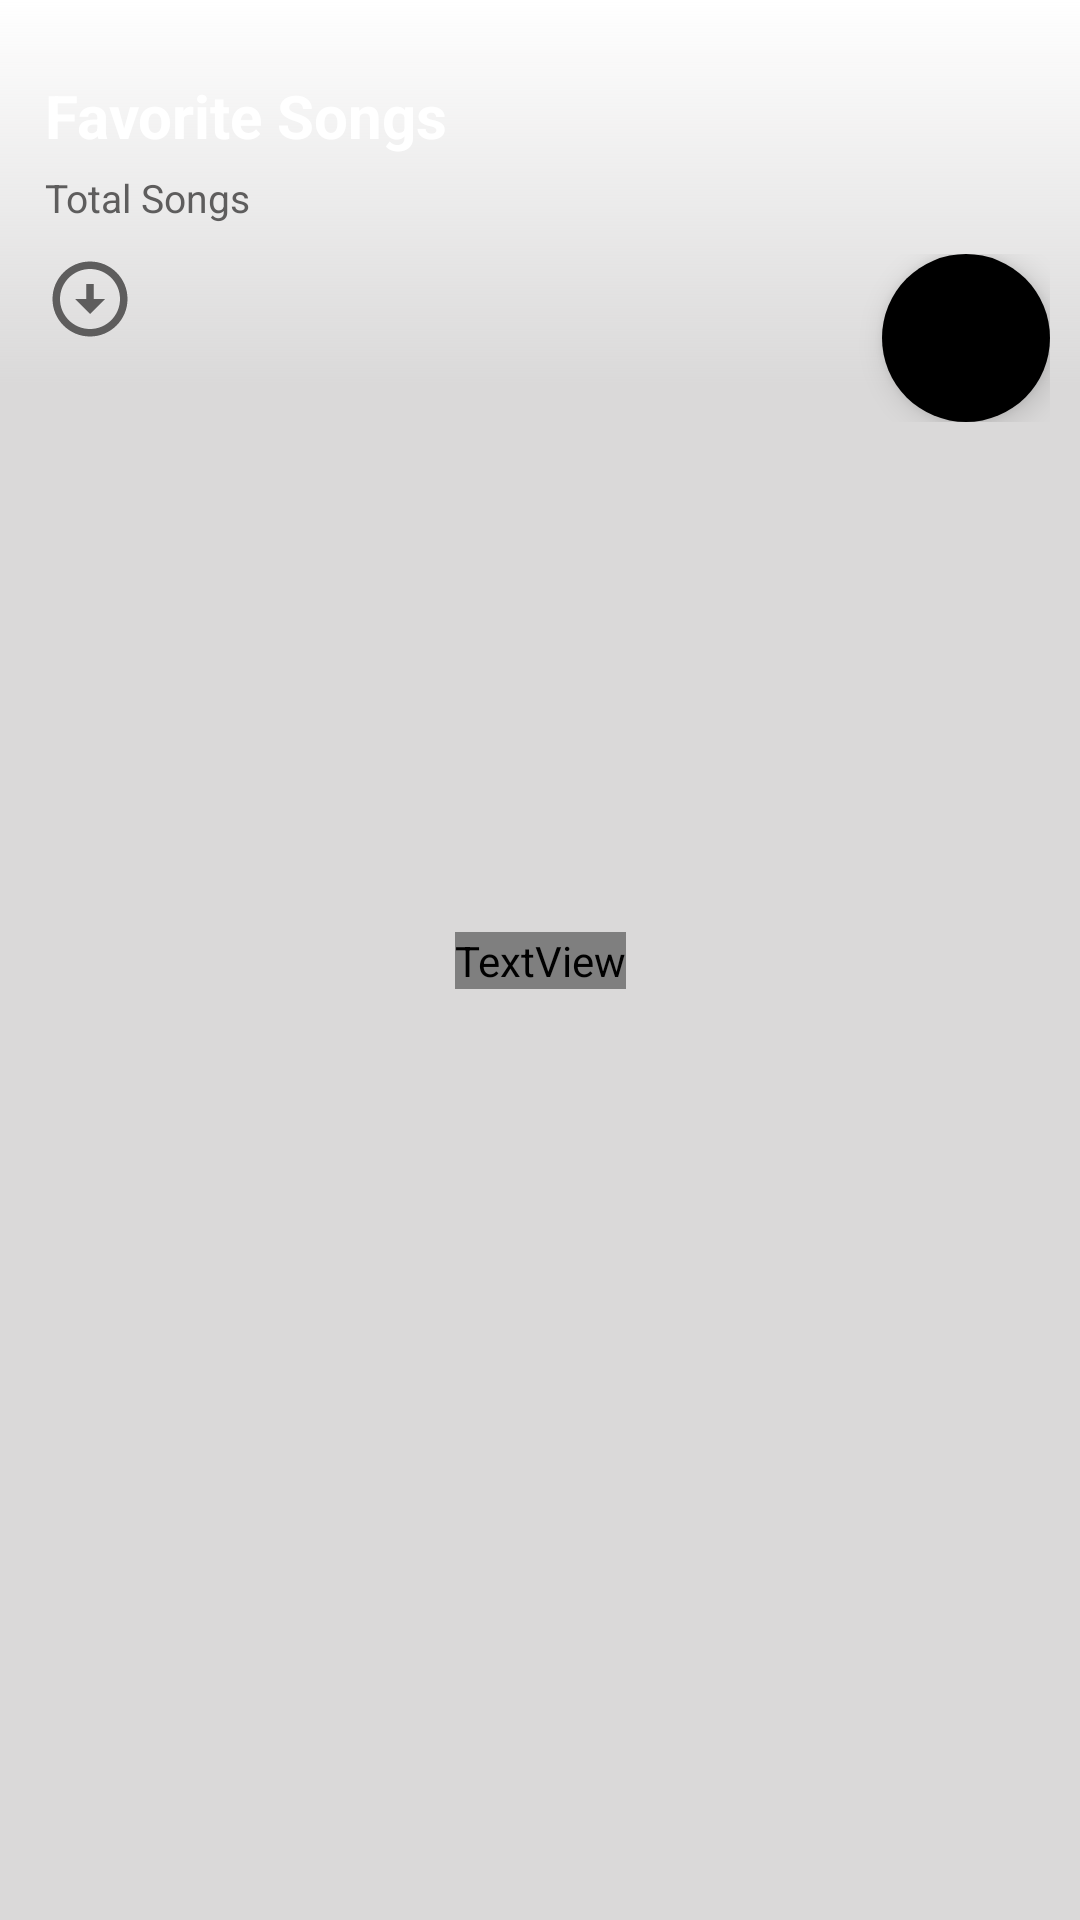

Named icons in this screenshot (1080 × 1920) and their bounding boxes, box(x1, y1, x2, y2):
circle down: box(52, 261, 128, 337)
